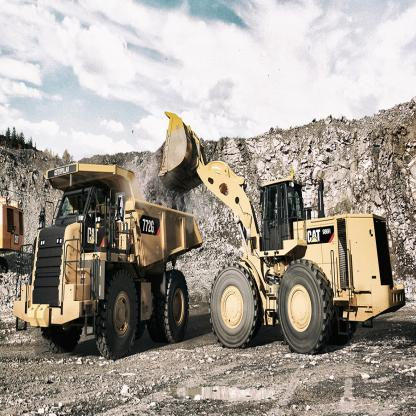bull_dozer/loader/grader: (155, 95, 402, 365)
dump_truck: (12, 160, 198, 362)
